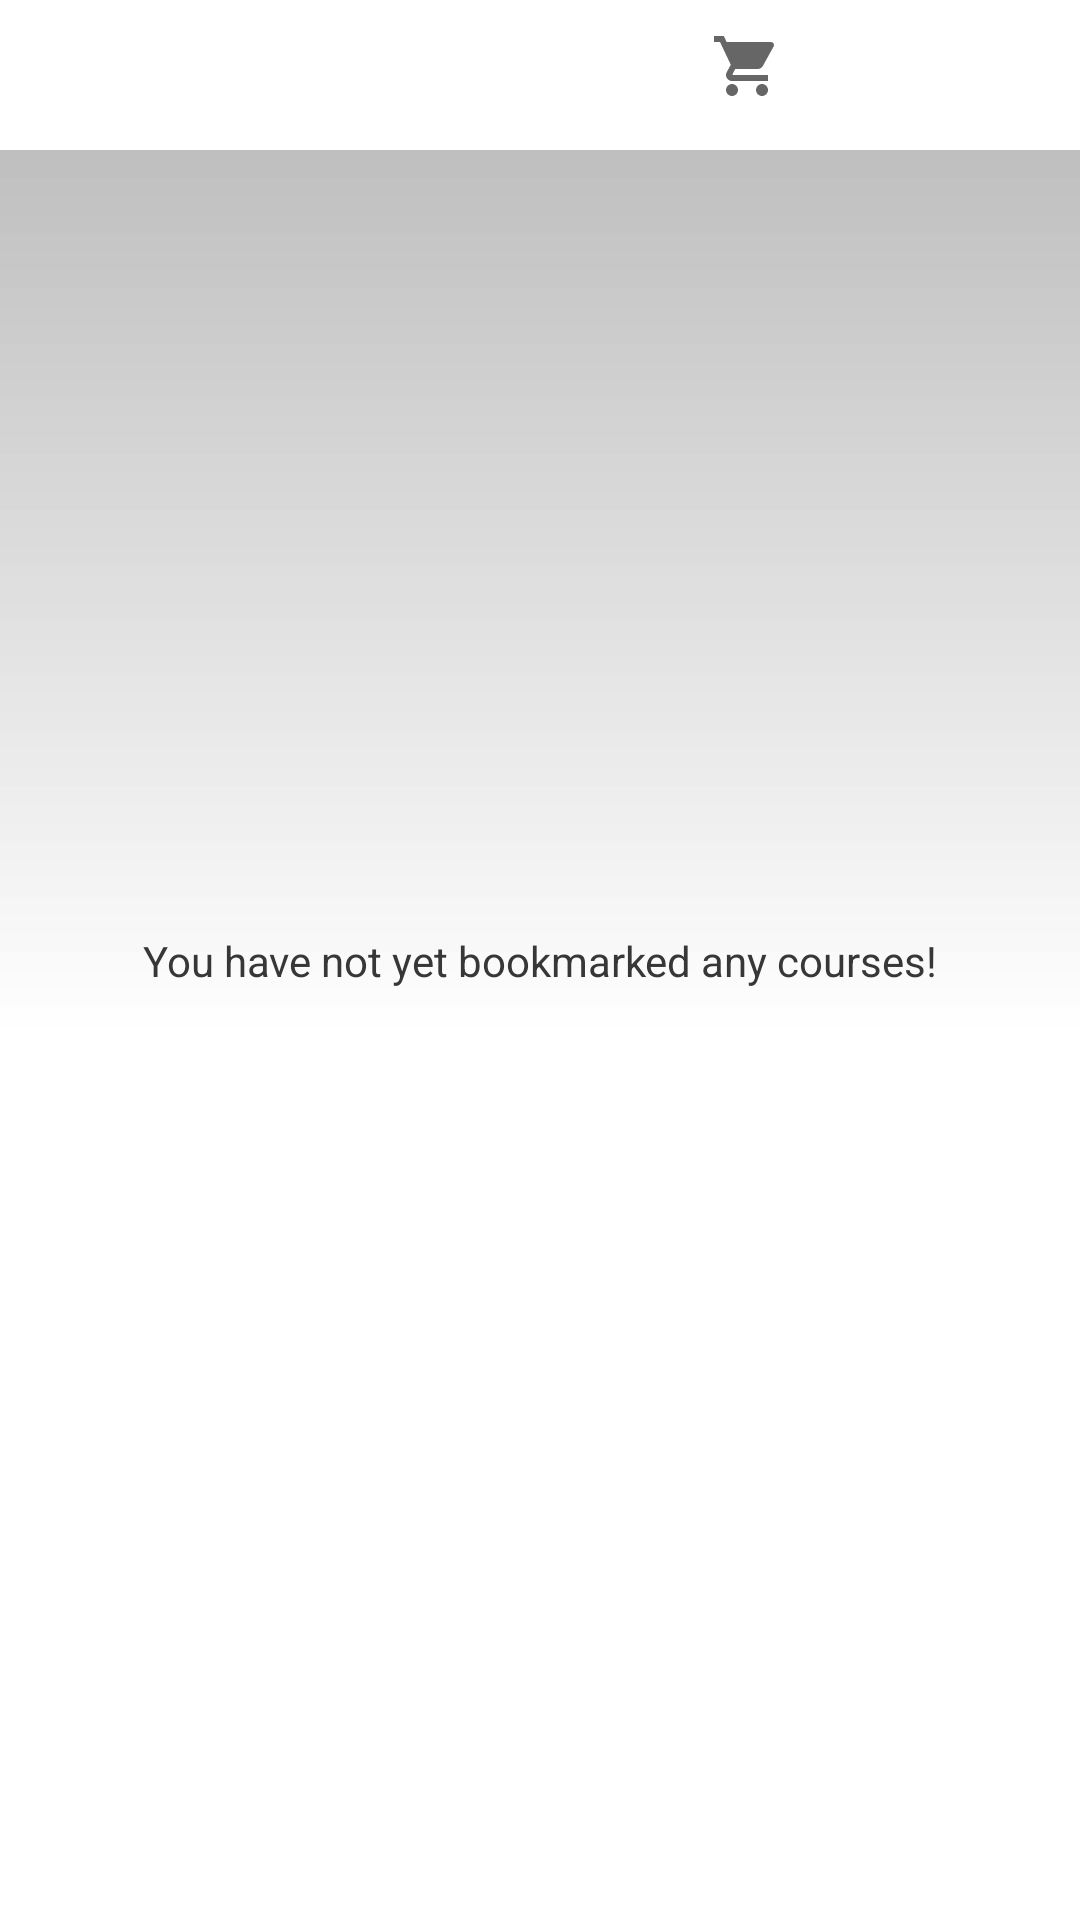

Named icons in this screenshot (1080*1920) and their bounding boxes, (x1, y1, x2, y2):
shopping cart: (714, 36, 774, 96)
